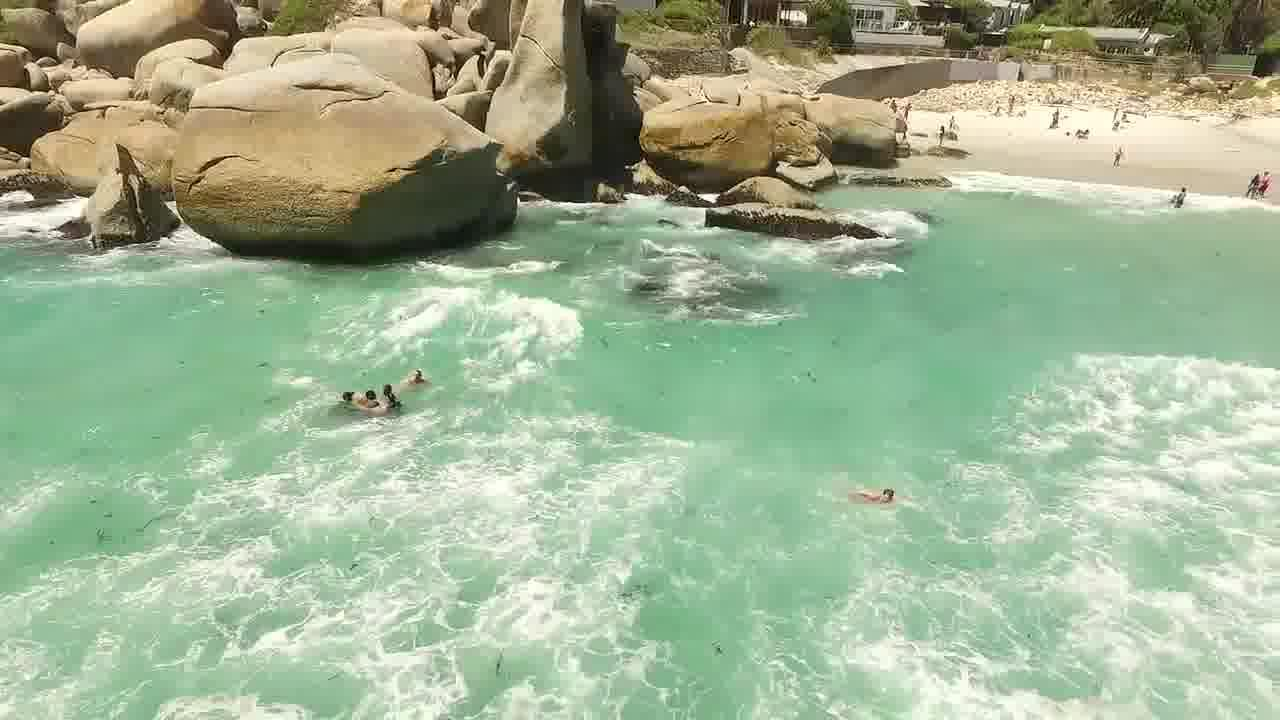human: (306, 378, 412, 421), (848, 469, 914, 519), (1098, 133, 1132, 170), (1242, 162, 1272, 201), (394, 361, 438, 387), (1162, 179, 1195, 209)
